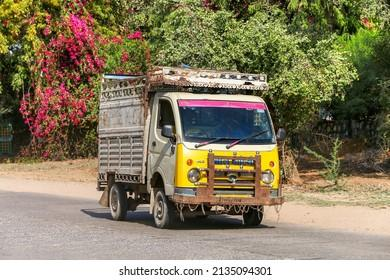truck: (97, 66, 286, 229)
